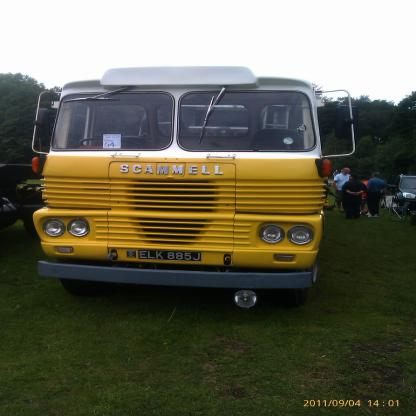Car: (0, 159, 40, 233), (388, 173, 416, 214)
Truck: (29, 78, 340, 307)
